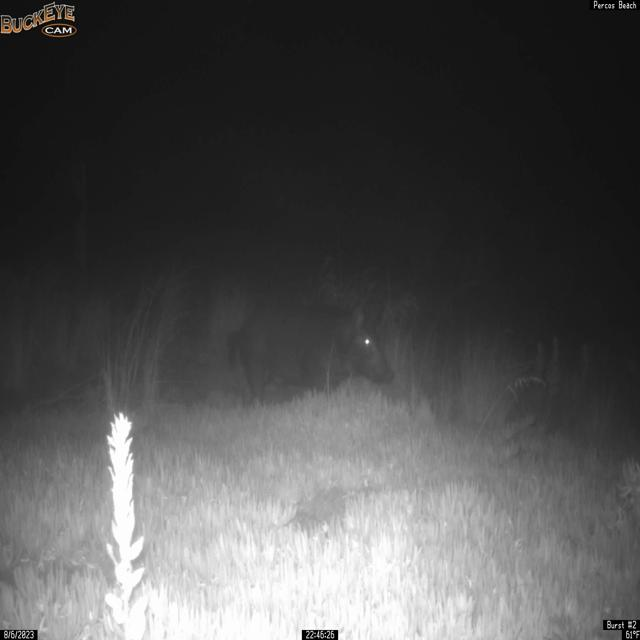pig: (227, 301, 396, 406)
